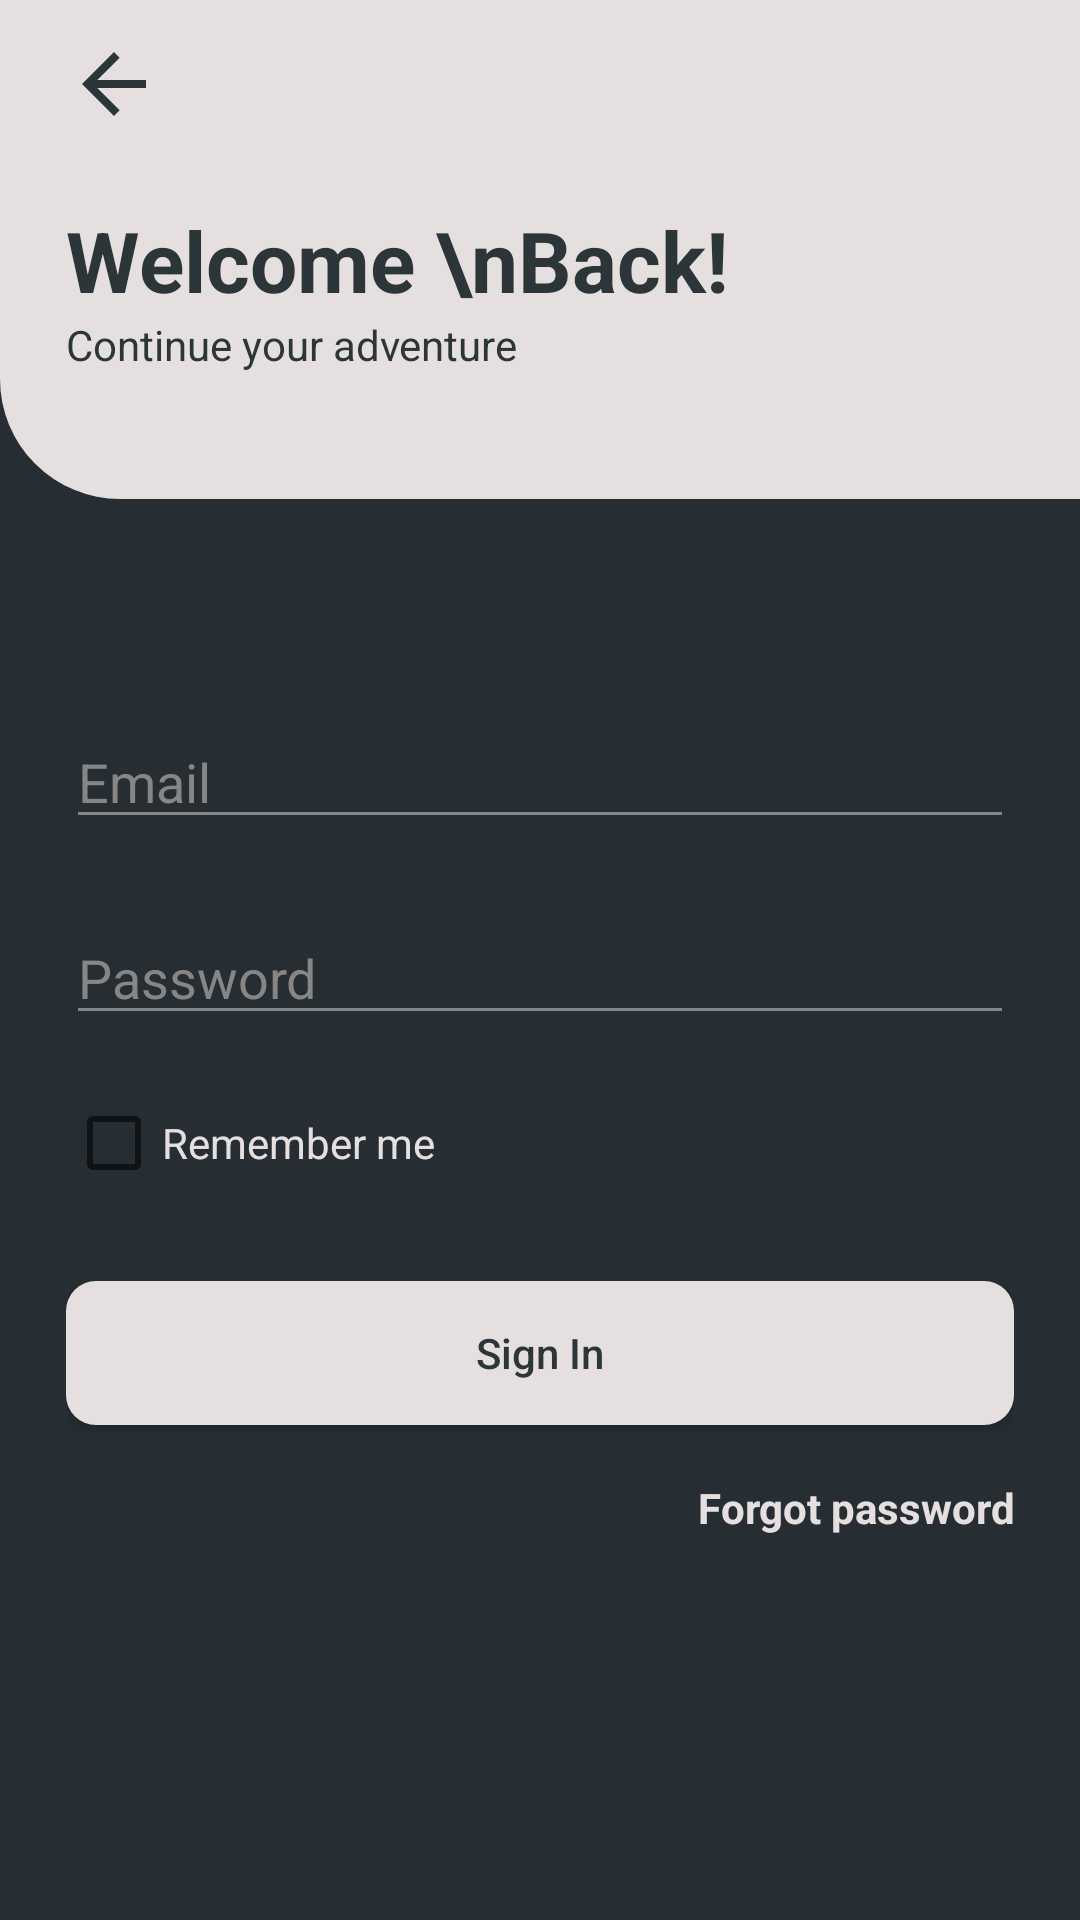

Icons on this 1080px x 1920px Android screen, each with its box as BBox(x1, y1, x2, y2):
arrow back: BBox(82, 52, 146, 116)
